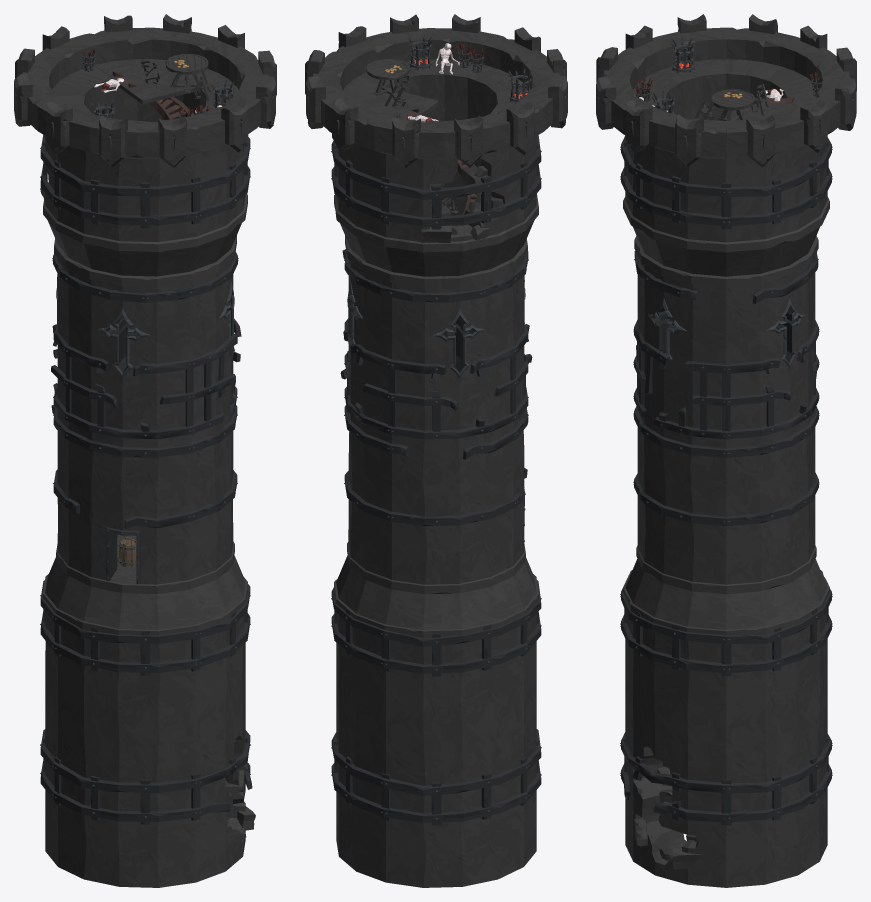
The model's file is isle_tower.gltf.
3 views of the same model, side by side, from view 1: azimuth 30°, elevation 25°; view 2: azimuth 150°, elevation 25°; view 3: azimuth 270°, elevation 25° (orthographic).
Parts seen in each view (by area): view 1: isle_tower; view 2: isle_tower; view 3: isle_tower.
Boxes of the visible parts, x1=… form: isle_tower: x1=14, y1=14, x2=276, y2=887; isle_tower: x1=305, y1=14, x2=567, y2=887; isle_tower: x1=596, y1=14, x2=856, y2=887.
Bounding box in the file's own units: 9.52 × 31.28 × 9.52.
2 materials, 2 textured.
